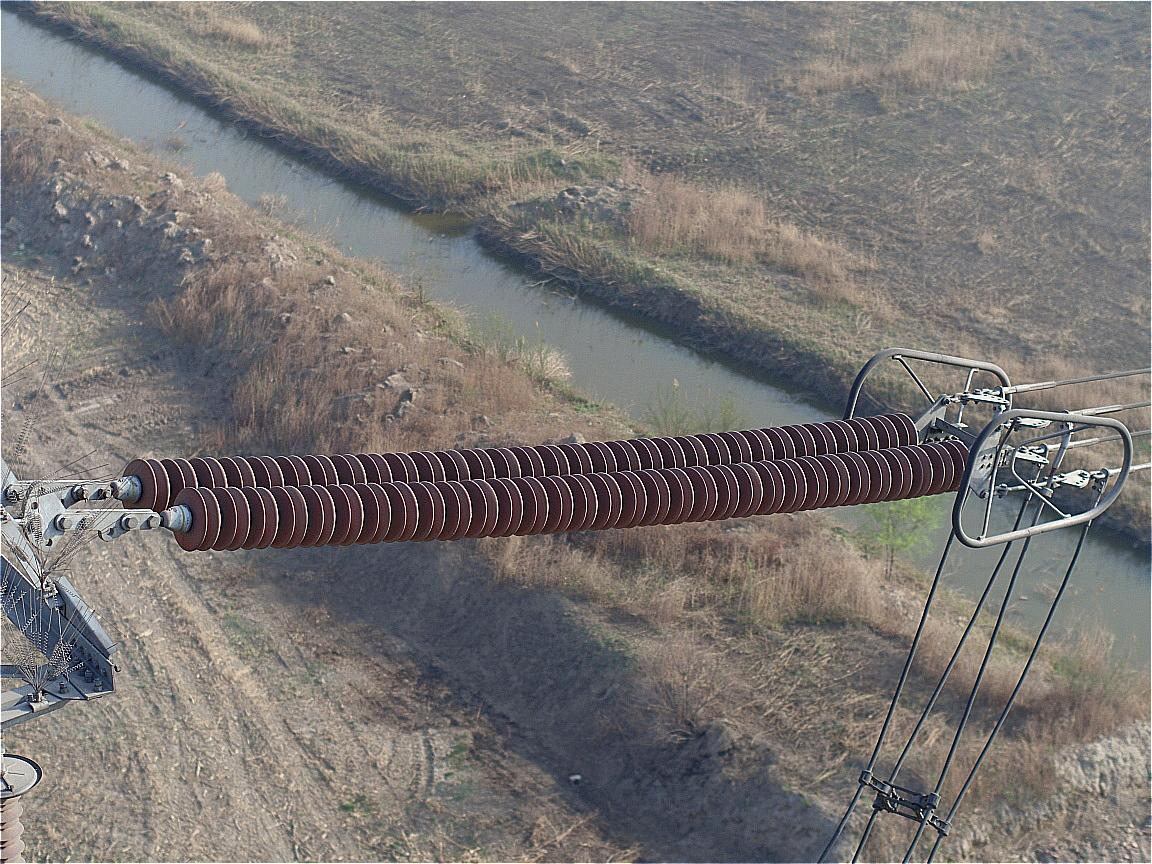insultor2: (120, 411, 974, 553)
